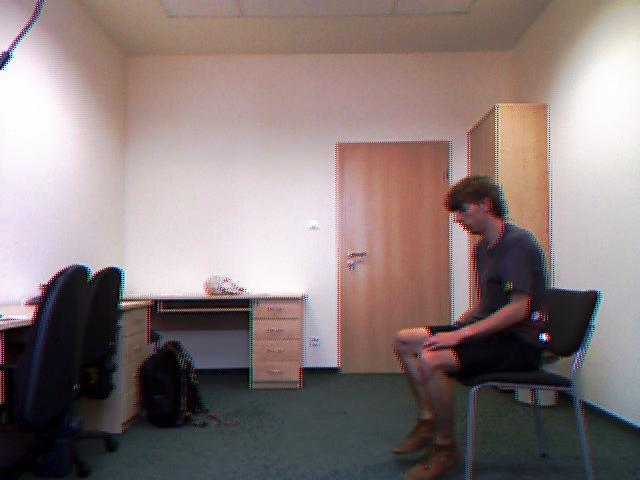sitting: (384, 165, 569, 480)
